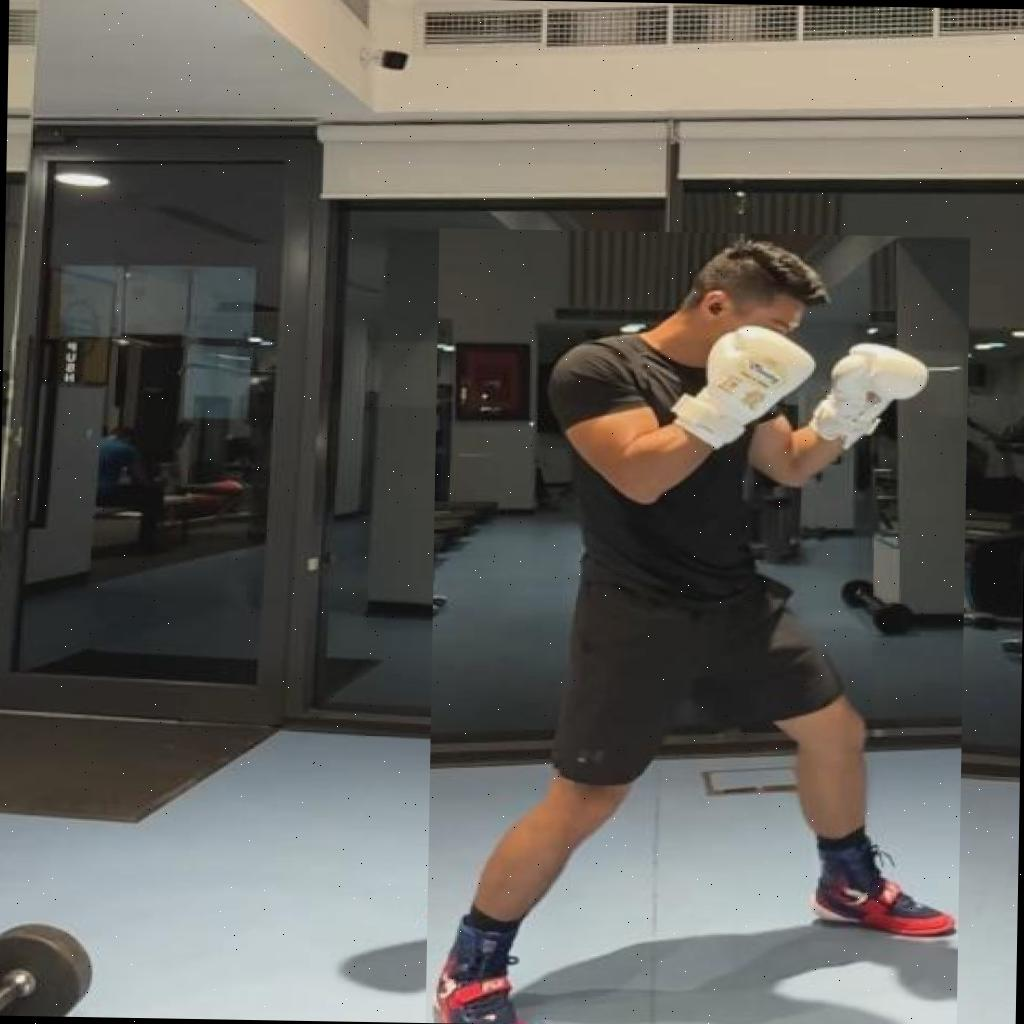no punch: (425, 228, 970, 1024)
